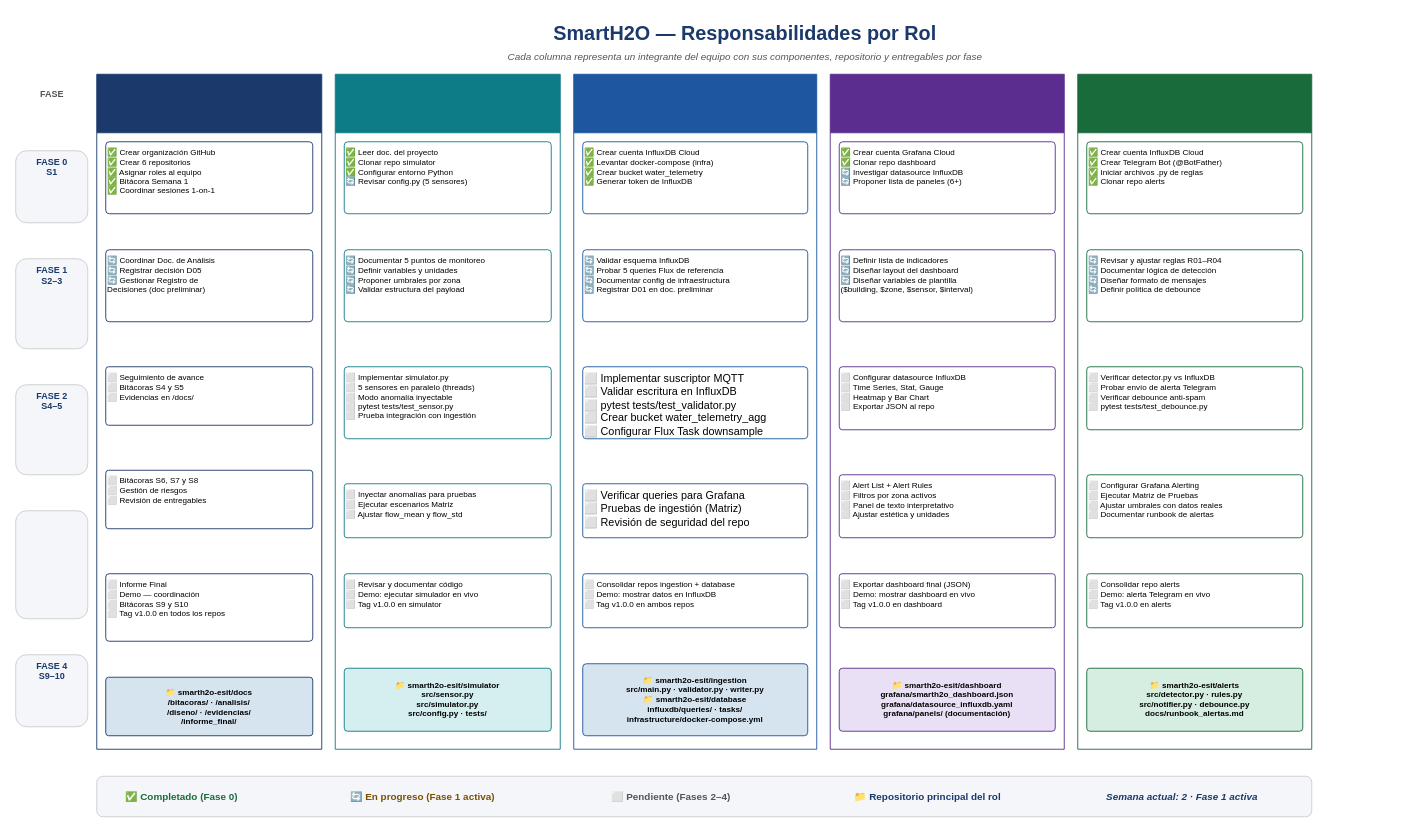
Some shapes in this 1409 by 833 pixel diagram are drawn without their labels. Here are the shapes that lost their labels. From the top down, the box of each, then its label:
(96, 73, 322, 749): 👤 David Rondon Product Owner / Líder Repo: docs
(334, 73, 560, 749): 📡 Christian Castro Ingeniero IoT Jr. Repo: simulator
(573, 73, 817, 749): ☁️ Azucena Castillo Ingeniero Cloud/Backend Jr. Repos: ingestion · database
(829, 73, 1064, 749): 📊 Mirna Jimenez Desarrollador Dashboard Jr. Repo: dashboard
(1077, 73, 1312, 749): 🔔 Karen Caceres Ingeniero de Integración Jr. Repo: alerts
(15, 510, 88, 619): FASE 3 S6–8
